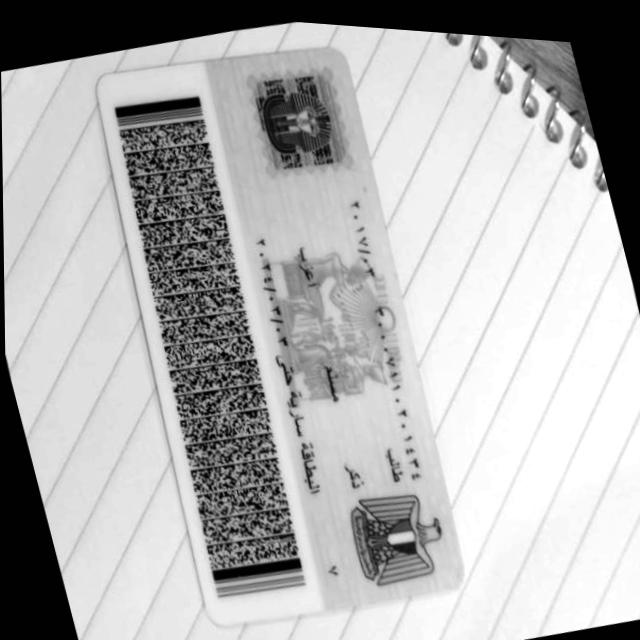id_card: (98, 46, 462, 623)
